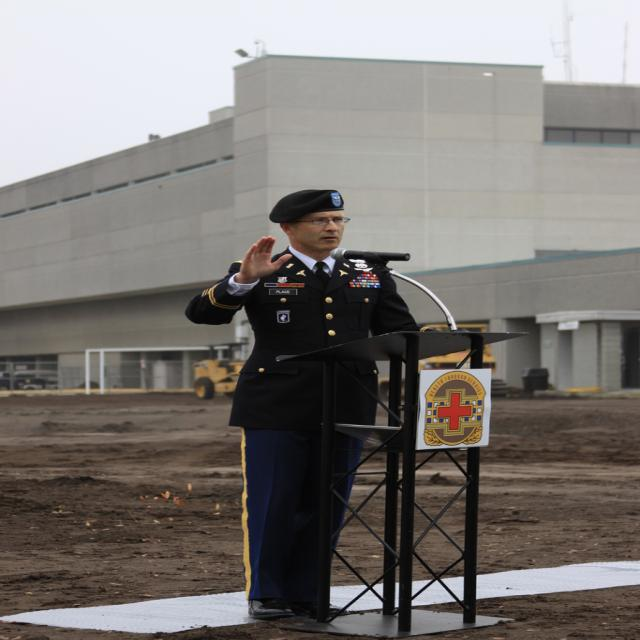no_helmet: (280, 183, 342, 209)
